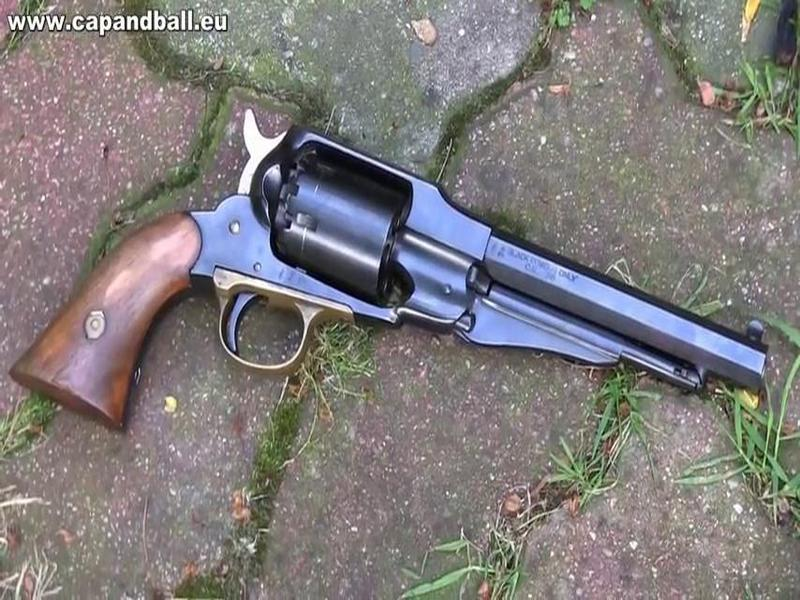Revolver: (29, 110, 799, 459)
